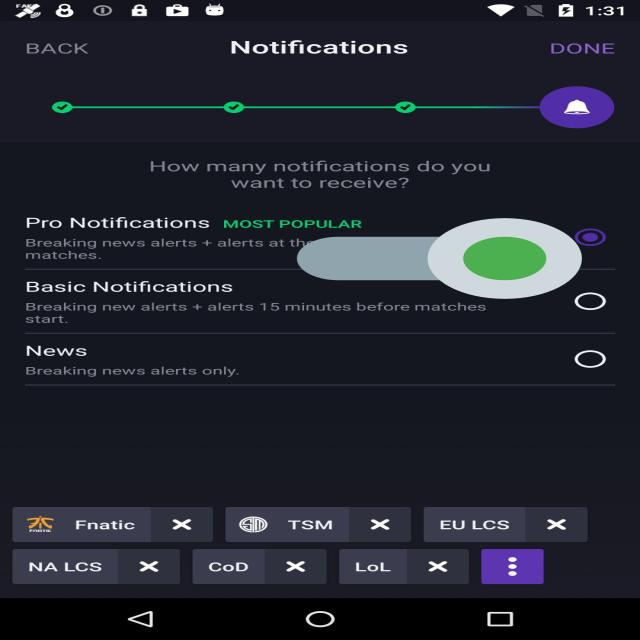social proof: (297, 184, 582, 333)
